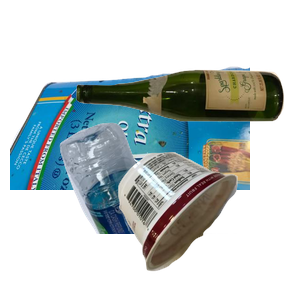glass: (74, 67, 300, 181)
metal: (10, 64, 250, 244)
plastic: (57, 120, 284, 300)
trash: (116, 149, 300, 300)
